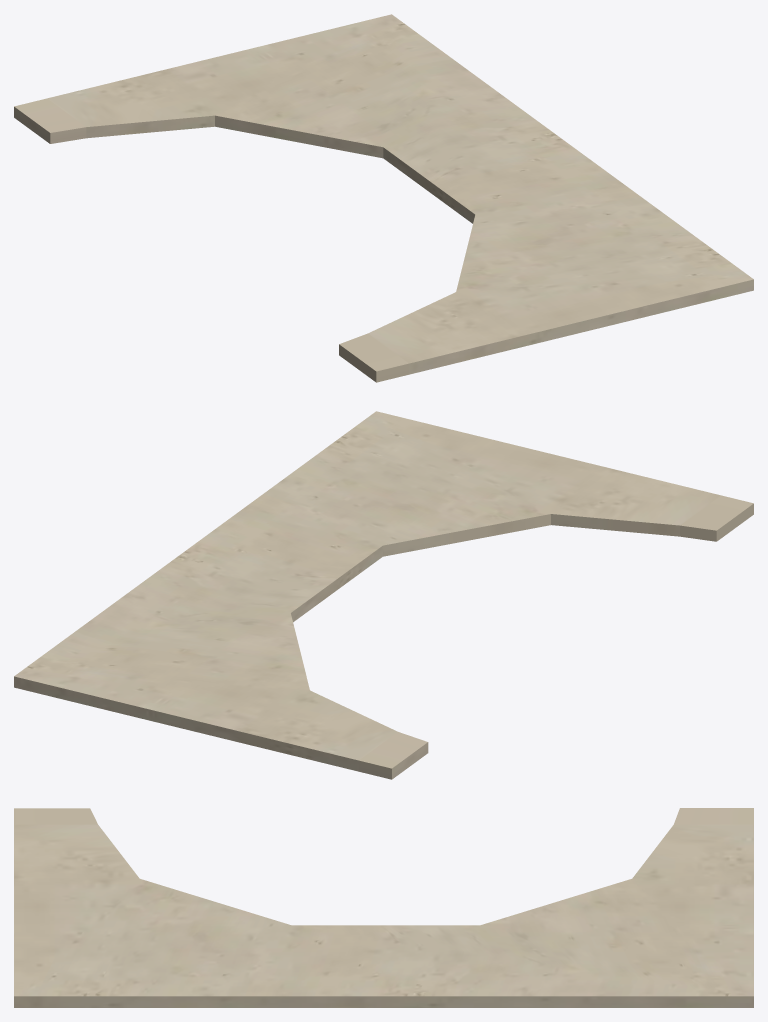
Rendered from JieGou_43_3574ca.glb.
3 views of the same model, one above another, from view 1: azimuth 30°, elevation 25°; view 2: azimuth 150°, elevation 25°; view 3: azimuth 270°, elevation 25° (orthographic). The views are drawn at different scales.
Visible parts, largest first — view 1: JieGou_43; view 2: JieGou_43; view 3: JieGou_43.
Part boxes in pixels (x1,y1,x2,y2): JieGou_43: (14,14,753,382); JieGou_43: (14,411,753,779); JieGou_43: (14,808,753,1007).
Bounding box in the file's own units: 7.11 × 0.2003 × 11.8.
1 material, 1 textured.
